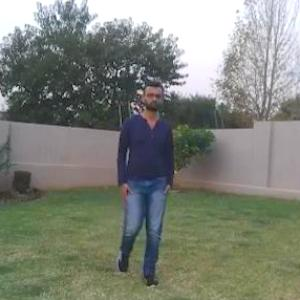follow: (120, 87, 173, 271)
